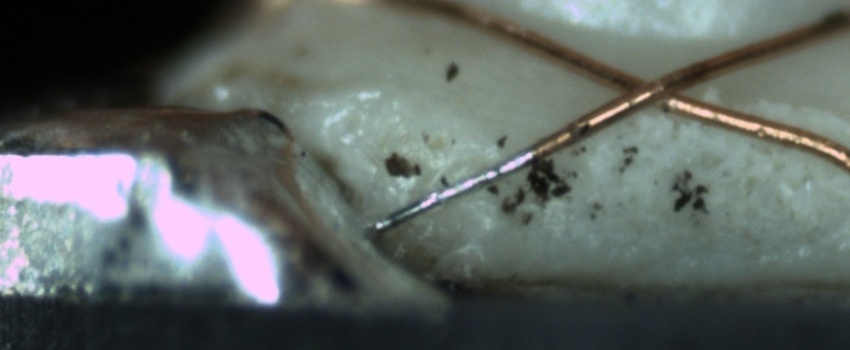CL: (587, 58, 714, 118)
TS: (366, 149, 538, 234)
TTCW: (362, 111, 591, 235)
